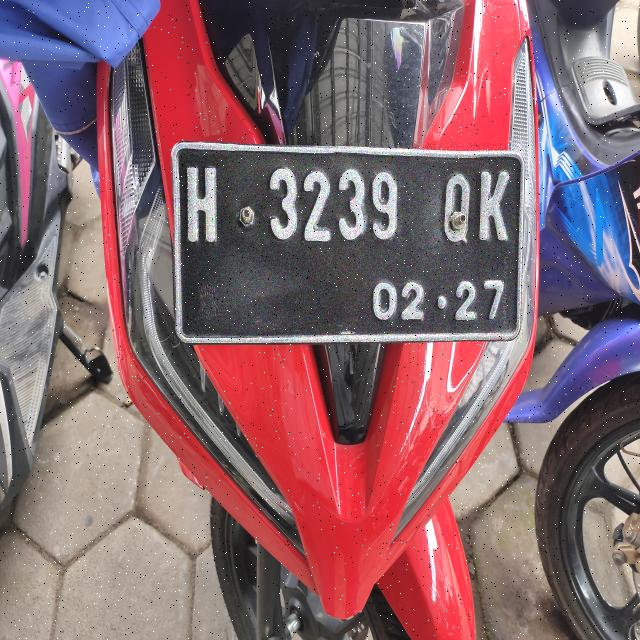plate: (173, 143, 522, 342)
